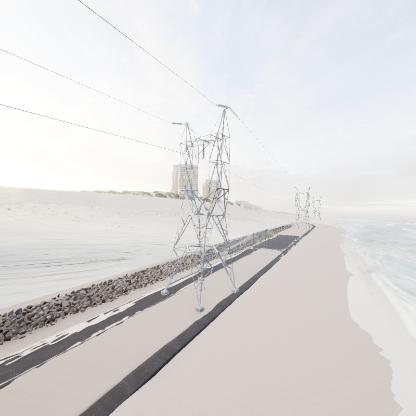tower: (159, 101, 243, 313), (289, 185, 313, 233)
